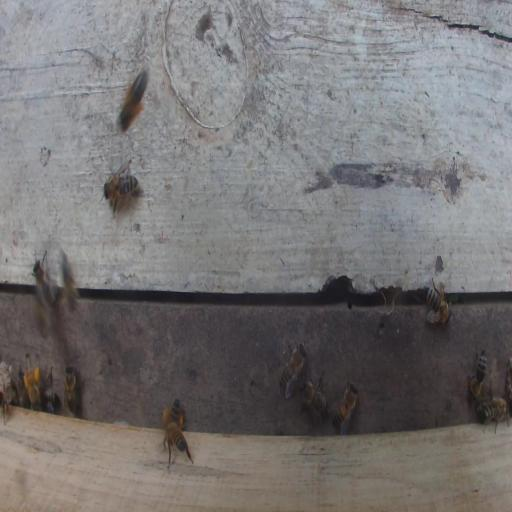bee: (102, 157, 139, 217), (278, 341, 308, 398), (119, 72, 147, 133), (331, 378, 358, 435), (32, 249, 58, 308), (299, 375, 328, 424), (163, 424, 193, 469), (425, 277, 451, 325), (477, 396, 510, 431), (467, 347, 487, 402), (23, 352, 41, 411), (62, 253, 79, 312), (30, 298, 51, 337), (64, 363, 78, 416), (163, 398, 185, 428), (41, 366, 54, 413)
